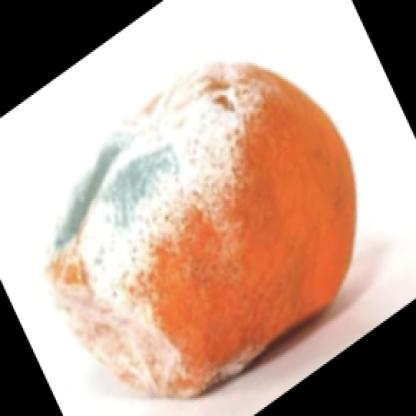rotten: (47, 62, 354, 398)
